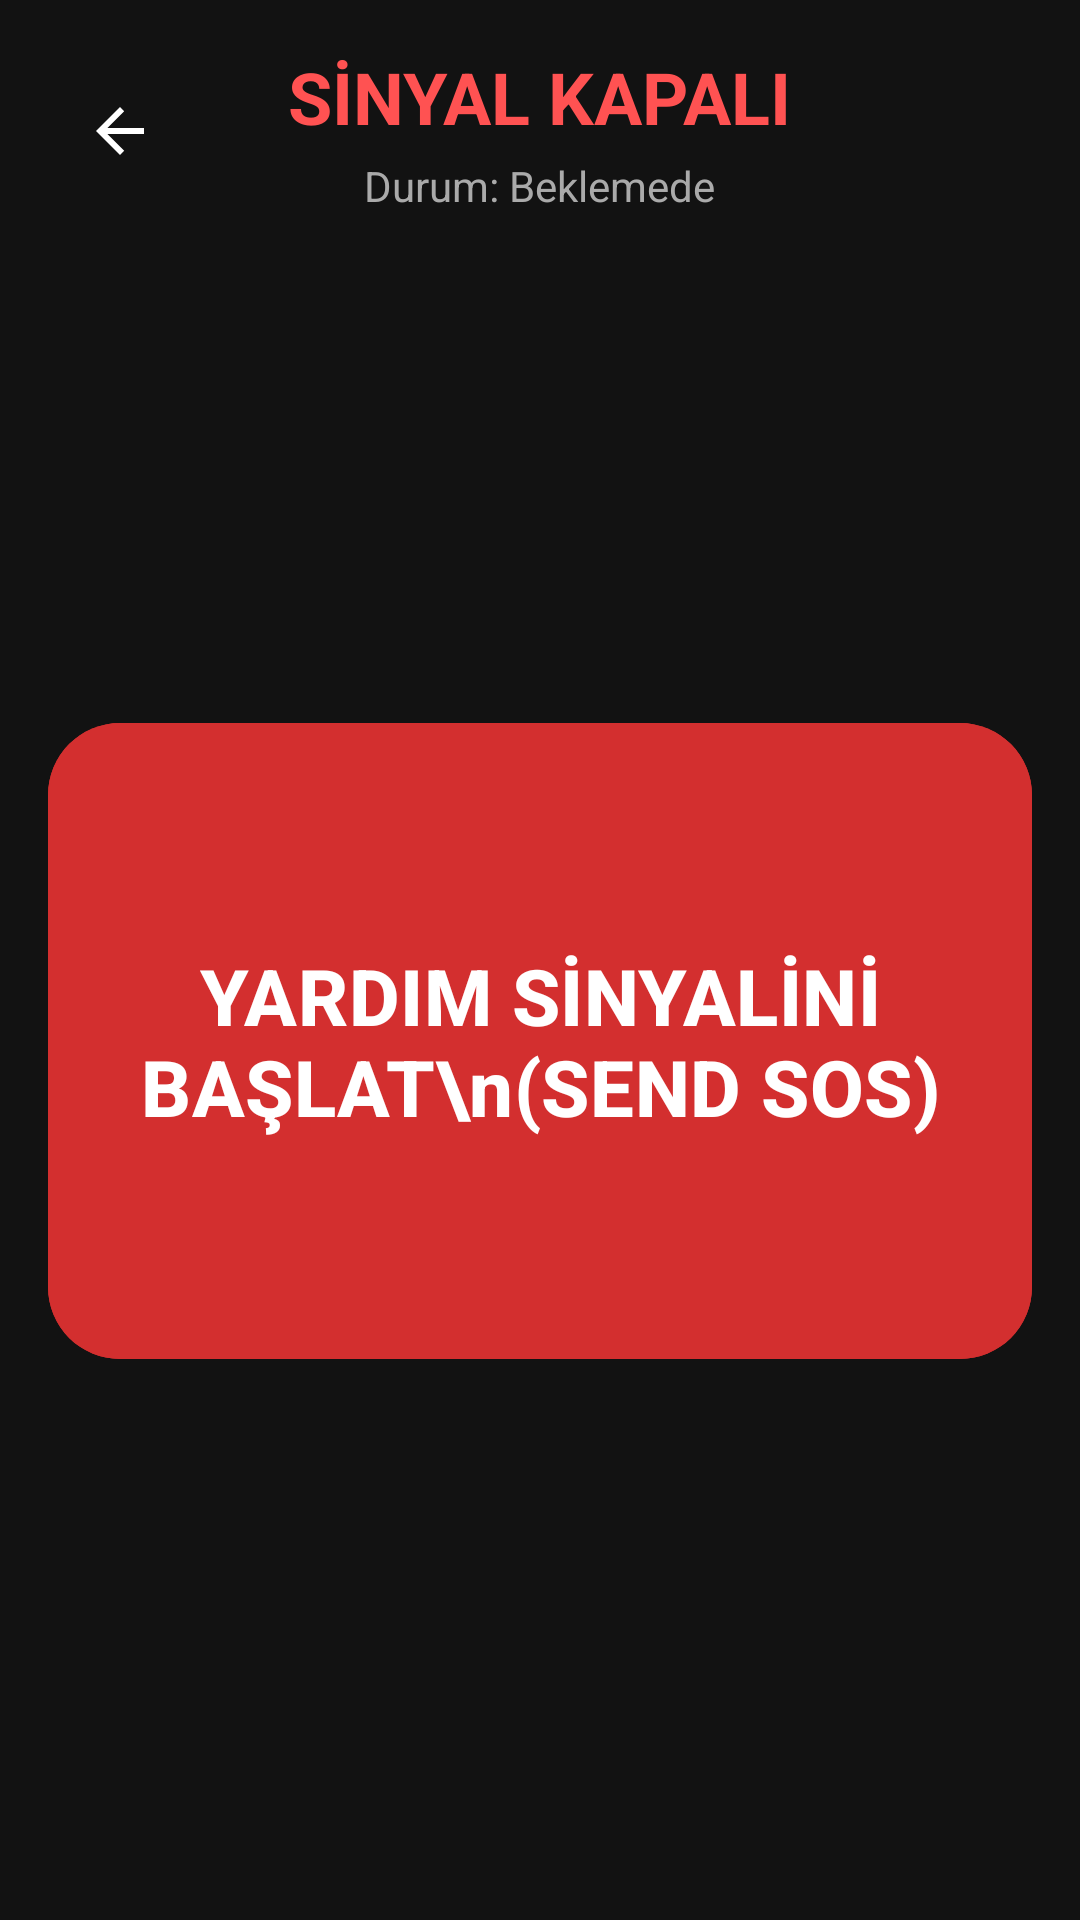

Locate icon controls on the screen. Image size 1080px×1920px, boxes as (x1, y1, x2, y2).
Geri: (96, 107, 144, 155)
